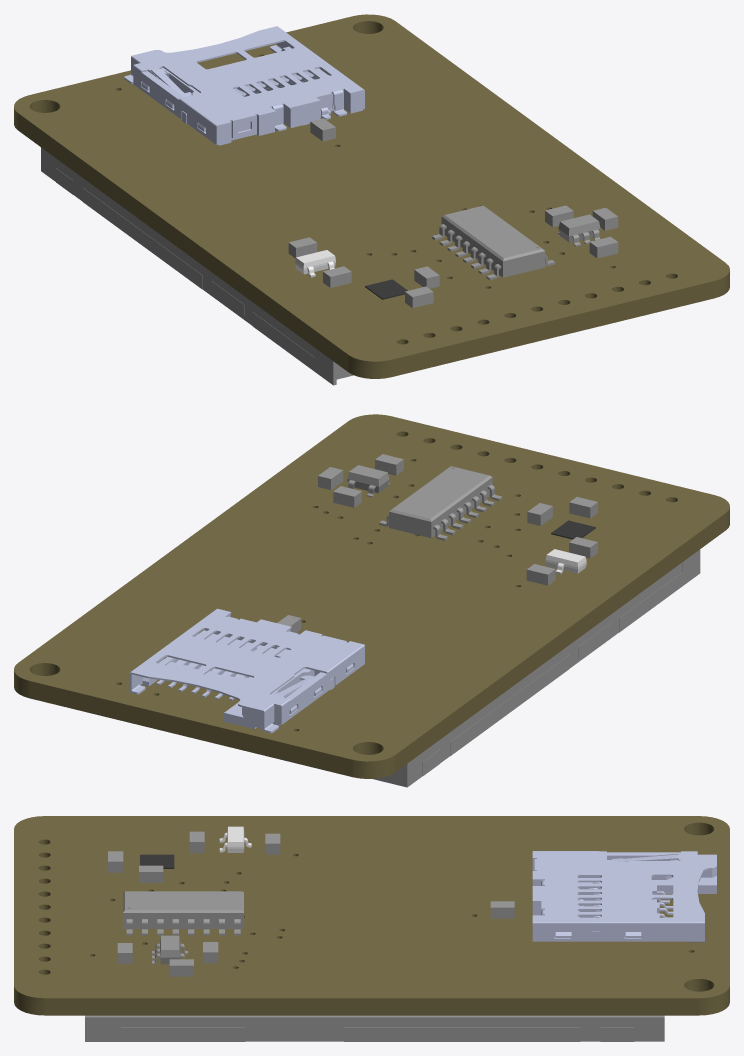
Rendered from ada-4311.glb.
3 renders of one model, top to bottom at view 1: azimuth 30°, elevation 25°; view 2: azimuth 150°, elevation 25°; view 3: azimuth 270°, elevation 25°, orthographic.
Parts seen in each view (by area): view 1: 0.16666666666666666_0.16666666666666666_0.08333333333333333_, 0.3333333333333333_0.3333333333333333_0.3333333333333333_0, 0.5833333333333334_0.6666666666666666_0.8333333333333334_0, 0.9166666666666666_0.9166666666666666_0.9166666666666666_0.8; view 2: 0.16666666666666666_0.16666666666666666_0.08333333333333333_, 0.3333333333333333_0.3333333333333333_0.3333333333333333_0, 0.5833333333333334_0.6666666666666666_0.8333333333333334_0, 0.9166666666666666_0.9166666666666666_0.9166666666666666_0.8; view 3: 0.16666666666666666_0.16666666666666666_0.08333333333333333_, 0.3333333333333333_0.3333333333333333_0.3333333333333333_0, 0.5833333333333334_0.6666666666666666_0.8333333333333334_0, 0.9166666666666666_0.9166666666666666_0.9166666666666666_0.8, 0.08333333333333333_0.08333333333333333_0.08333333333333333_.
Boxes of the visible parts, x1,y1,x2,y2 form: 0.16666666666666666_0.16666666666666666_0.08333333333333333_: (14, 14, 729, 378); 0.3333333333333333_0.3333333333333333_0.3333333333333333_0: (41, 118, 618, 385); 0.5833333333333334_0.6666666666666666_0.8333333333333334_0: (124, 26, 364, 145); 0.9166666666666666_0.9166666666666666_0.9166666666666666_0.8: (295, 250, 335, 277); 0.16666666666666666_0.16666666666666666_0.08333333333333333_: (14, 414, 729, 778); 0.3333333333333333_0.3333333333333333_0.3333333333333333_0: (277, 454, 700, 787); 0.5833333333333334_0.6666666666666666_0.8333333333333334_0: (129, 608, 364, 733); 0.9166666666666666_0.9166666666666666_0.9166666666666666_0.8: (545, 549, 586, 574); 0.16666666666666666_0.16666666666666666_0.08333333333333333_: (14, 816, 729, 1015); 0.3333333333333333_0.3333333333333333_0.3333333333333333_0: (85, 831, 664, 1041); 0.5833333333333334_0.6666666666666666_0.8333333333333334_0: (532, 851, 716, 942); 0.9166666666666666_0.9166666666666666_0.9166666666666666_0.8: (219, 826, 251, 852); 0.08333333333333333_0.08333333333333333_0.08333333333333333_: (140, 854, 174, 868).
Bounding box in the file's own units: 3.56 × 0.6079 × 5.91.
